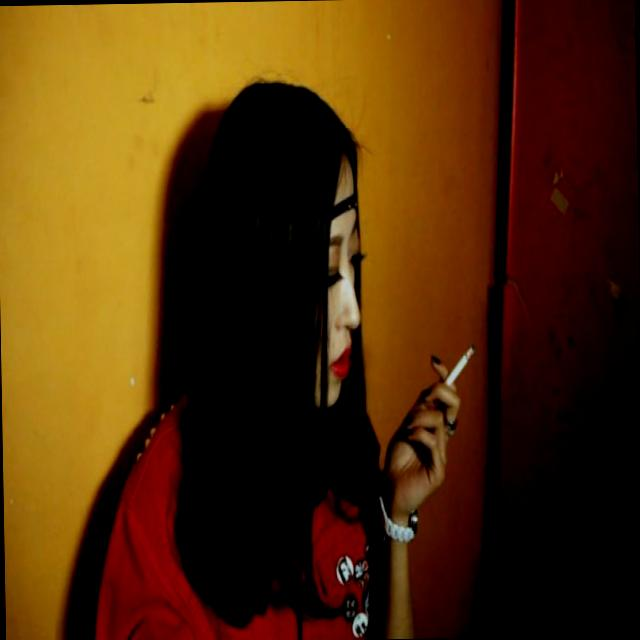smoke: (444, 342, 477, 391)
